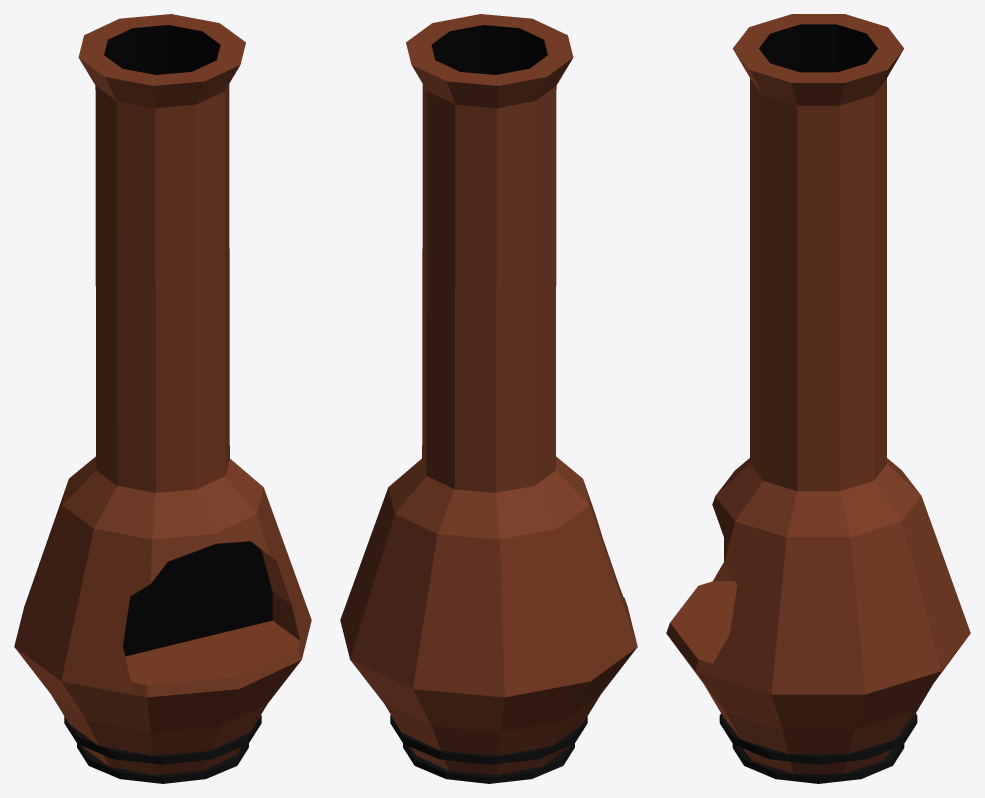
File: chimenea.fbx
3 renders of one model, left to right at view 1: azimuth 30°, elevation 25°; view 2: azimuth 150°, elevation 25°; view 3: azimuth 270°, elevation 25°, orthographic.
Parts seen in each view (by area): view 1: Chiminea1; view 2: Chiminea1; view 3: Chiminea1.
Part boxes in pixels (x1,y1,x2,y2): Chiminea1: (14, 14, 311, 783); Chiminea1: (340, 14, 637, 783); Chiminea1: (666, 14, 970, 783).
Bounding box in the file's own units: 107 × 285 × 112.
